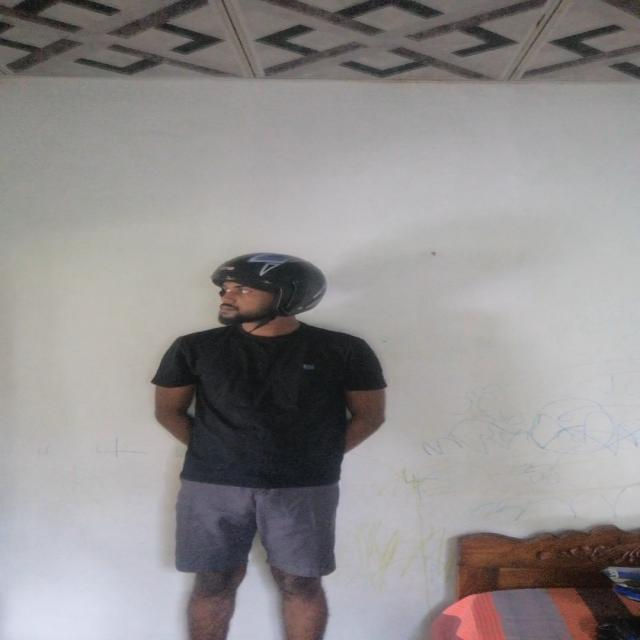Helmet_Wearer: (193, 247, 336, 339)
Person: (136, 252, 393, 640)
